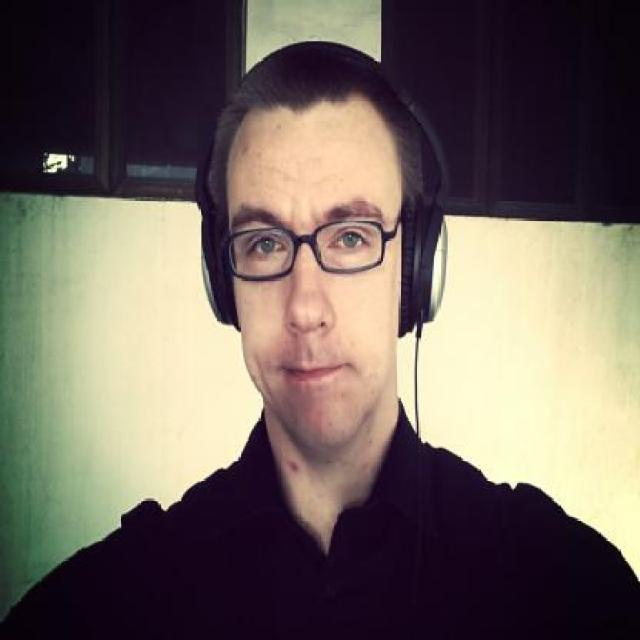earphone: (190, 46, 514, 340)
